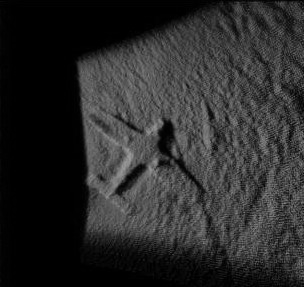plane: (83, 112, 195, 210)
